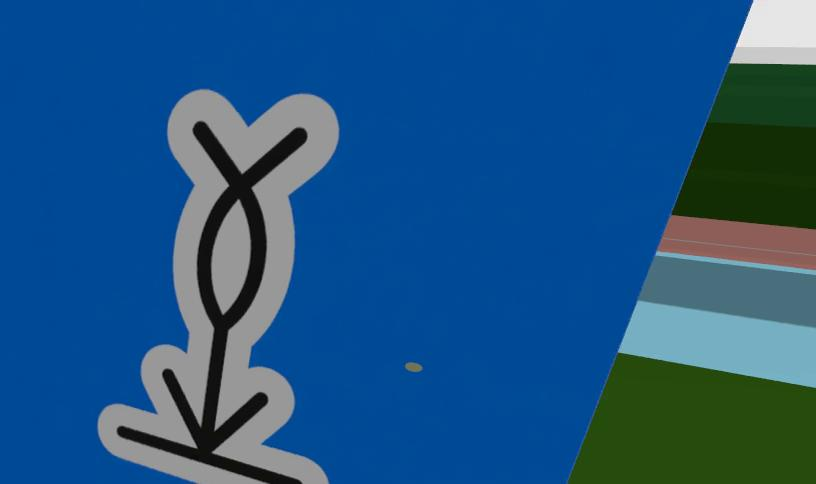KFS_REAL: (0, 0, 751, 484), (98, 91, 337, 484)
